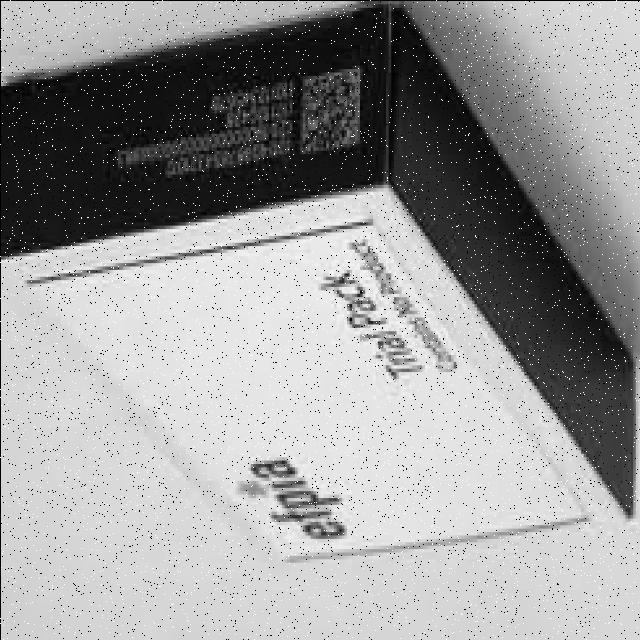datamatrix: (294, 61, 367, 160)
